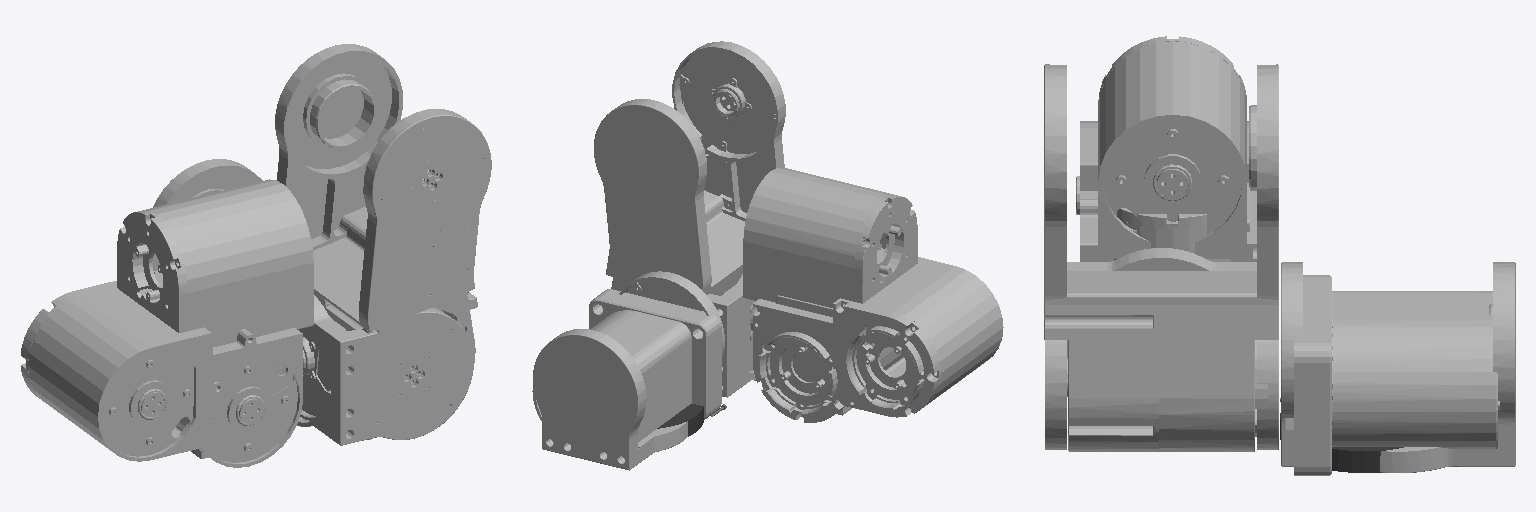
The robot description file, URDF, robot "Assy-Arm-R11":
<?xml version="1.0" encoding="utf-8"?>
<!-- This URDF was automatically created by SolidWorks to URDF Exporter! Originally created by [author] ([email redacted]) 
     Commit Version: 1.6.0-4-g7f85cfe  Build Version: 1.6.7995.38578
     For more information, please see http://wiki.ros.org/sw_urdf_exporter -->
<robot
  name="Assy-Arm-R11">
  <link
    name="Baselink">
    <inertial>
      <origin
        xyz="5.14210495693695E-05 -0.00347977495272745 0.0572202568665285"
        rpy="0 0 0" />
      <mass
        value="0.920517665514425" />
      <inertia
        ixx="0.000889300794089527"
        ixy="2.30285761453492E-06"
        ixz="-1.69735343853035E-06"
        iyy="0.000803479245132785"
        iyz="-7.28407372781912E-06"
        izz="0.000817874290836391" />
    </inertial>
    <visual>
      <origin
        xyz="0 0 0"
        rpy="0 0 0" />
      <geometry>
        <mesh
          filename="package://Assy-Arm-R11/meshes/Baselink.STL" />
      </geometry>
      <material
        name="">
        <color
          rgba="0.752941176470588 0.752941176470588 0.752941176470588 1" />
      </material>
    </visual>
    <collision>
      <origin
        xyz="0 0 0"
        rpy="0 0 0" />
      <geometry>
        <mesh
          filename="package://Assy-Arm-R11/meshes/Baselink.STL" />
      </geometry>
    </collision>
  </link>
  <link
    name="Link_1">
    <inertial>
      <origin
        xyz="-1.02244608145538E-06 0.00112007948225424 0.0204998303580777"
        rpy="0 0 0" />
      <mass
        value="0.382058624778774" />
      <inertia
        ixx="0.000349750409666344"
        ixy="4.38804662773357E-08"
        ixz="-1.56646259094666E-08"
        iyy="0.000409993912478932"
        iyz="8.44359837437841E-07"
        izz="0.000385437259055182" />
    </inertial>
    <visual>
      <origin
        xyz="0 0 0"
        rpy="0 0 0" />
      <geometry>
        <mesh
          filename="package://Assy-Arm-R11/meshes/Link_1.STL" />
      </geometry>
      <material
        name="">
        <color
          rgba="0.752941176470588 0.752941176470588 0.752941176470588 1" />
      </material>
    </visual>
    <collision>
      <origin
        xyz="0 0 0"
        rpy="0 0 0" />
      <geometry>
        <mesh
          filename="package://Assy-Arm-R11/meshes/Link_1.STL" />
      </geometry>
    </collision>
  </link>
  <joint
    name="joint1"
    type="revolute">
    <origin
      xyz="0 0 0.11808"
      rpy="0 0 0" />
    <parent
      link="Baselink" />
    <child
      link="Link_1" />
    <axis
      xyz="0 0 1" />
    <limit
      lower="-3.054"
      upper="3.054"
      effort="18"
      velocity="3.5" />
  </joint>
  <link
    name="Link2">
    <inertial>
      <origin
        xyz="-0.000849253066788795 0.029054020211393 0.00107702601951669"
        rpy="0 0 0" />
      <mass
        value="1.26101938298306" />
      <inertia
        ixx="0.00253360786519654"
        ixy="-1.05945646914692E-05"
        ixz="3.52239487571225E-06"
        iyy="0.000863859605064866"
        iyz="1.99537986334647E-05"
        izz="0.00287589484525876" />
    </inertial>
    <visual>
      <origin
        xyz="0 0 0"
        rpy="0 0 0" />
      <geometry>
        <mesh
          filename="package://Assy-Arm-R11/meshes/Link2.STL" />
      </geometry>
      <material
        name="">
        <color
          rgba="0.752941176470588 0.752941176470588 0.752941176470588 1" />
      </material>
    </visual>
    <collision>
      <origin
        xyz="0 0 0"
        rpy="0 0 0" />
      <geometry>
        <mesh
          filename="package://Assy-Arm-R11/meshes/Link2.STL" />
      </geometry>
    </collision>
  </link>
  <joint
    name="Joint2"
    type="revolute">
    <origin
      xyz="0 0 0.0478"
      rpy="1.5708 0 0" />
    <parent
      link="Link_1" />
    <child
      link="Link2" />
    <axis
      xyz="0 0 1" />
    <limit
      lower="-1.4835"
      upper="1.4835"
      effort="18"
      velocity="3.5" />
  </joint>
  <link
    name="Link3">
    <inertial>
      <origin
        xyz="0.044175644745497 -0.00294149191642336 0.00119593238217333"
        rpy="0 0 0" />
      <mass
        value="1.79154044981363" />
      <inertia
        ixx="0.00131739250408468"
        ixy="0.000126307089929083"
        ixz="0.000110559022227893"
        iyy="0.00215735533415162"
        iyz="-2.63185425786835E-05"
        izz="0.00218412349514914" />
    </inertial>
    <visual>
      <origin
        xyz="0 0 0"
        rpy="0 0 0" />
      <geometry>
        <mesh
          filename="package://Assy-Arm-R11/meshes/Link3.STL" />
      </geometry>
      <material
        name="">
        <color
          rgba="0.752941176470588 0.752941176470588 0.752941176470588 1" />
      </material>
    </visual>
    <collision>
      <origin
        xyz="0 0 0"
        rpy="0 0 0" />
      <geometry>
        <mesh
          filename="package://Assy-Arm-R11/meshes/Link3.STL" />
      </geometry>
    </collision>
  </link>
  <joint
    name="joint3"
    type="revolute">
    <origin
      xyz="0 0.13668 0"
      rpy="0 0 1.5708" />
    <parent
      link="Link2" />
    <child
      link="Link3" />
    <axis
      xyz="0 0 -1" />
    <limit
      lower="-1.2217"
      upper="2.0944"
      effort="18"
      velocity="3.5" />
  </joint>
  <link
    name="Link4">
    <inertial>
      <origin
        xyz="1.03025768988241E-06 -0.00112007725301295 0.0204998303580779"
        rpy="0 0 0" />
      <mass
        value="0.382058624778774" />
      <inertia
        ixx="0.000349750409666343"
        ixy="4.38804662762965E-08"
        ixz="1.56674497381565E-08"
        iyy="0.000409993912478931"
        iyz="-8.44351800970282E-07"
        izz="0.00038543725905518" />
    </inertial>
    <visual>
      <origin
        xyz="0 0 0"
        rpy="0 0 0" />
      <geometry>
        <mesh
          filename="package://Assy-Arm-R11/meshes/Link4.STL" />
      </geometry>
      <material
        name="">
        <color
          rgba="0.752941176470588 0.752941176470588 0.752941176470588 1" />
      </material>
    </visual>
    <collision>
      <origin
        xyz="0 0 0"
        rpy="0 0 0" />
      <geometry>
        <mesh
          filename="package://Assy-Arm-R11/meshes/Link4.STL" />
      </geometry>
    </collision>
  </link>
  <joint
    name="Joint4"
    type="revolute">
    <origin
      xyz="0.0883 -0.0611 0"
      rpy="1.5708 0 0" />
    <parent
      link="Link3" />
    <child
      link="Link4" />
    <axis
      xyz="0 0 1" />
    <limit
      lower="-3.0543"
      upper="3.0543"
      effort="18"
      velocity="3.5" />
  </joint>
  <link
    name="Link5">
    <inertial>
      <origin
        xyz="-0.00294149202499677 -0.0441756448069865 0.00119593259304638"
        rpy="0 0 0" />
      <mass
        value="1.79154047512842" />
      <inertia
        ixx="0.00215735531140874"
        ixy="-0.00012630709641912"
        ixz="-2.63185326338472E-05"
        iyy="0.00131739253165246"
        iyz="-0.000110559008685242"
        izz="0.002184123504059" />
    </inertial>
    <visual>
      <origin
        xyz="0 0 0"
        rpy="0 0 0" />
      <geometry>
        <mesh
          filename="package://Assy-Arm-R11/meshes/Link5.STL" />
      </geometry>
      <material
        name="">
        <color
          rgba="0.752941176470588 0.752941176470588 0.752941176470588 1" />
      </material>
    </visual>
    <collision>
      <origin
        xyz="0 0 0"
        rpy="0 0 0" />
      <geometry>
        <mesh
          filename="package://Assy-Arm-R11/meshes/Link5.STL" />
      </geometry>
    </collision>
  </link>
  <joint
    name="Joint5"
    type="revolute">
    <origin
      xyz="0 0 0.0478"
      rpy="-1.5708 0 0" />
    <parent
      link="Link4" />
    <child
      link="Link5" />
    <axis
      xyz="0 0 1" />
    <limit
      lower="-1.4835"
      upper="1.4835"
      effort="18"
      velocity="3.15" />
  </joint>
  <link
    name="Link6">
    <inertial>
      <origin
        xyz="1.94289029309402E-16 4.47565548034622E-15 0.0215973177991842"
        rpy="0 0 0" />
      <mass
        value="0.0944639400304874" />
      <inertia
        ixx="1.4129956503066E-05"
        ixy="-4.39796943349642E-09"
        ixz="2.53746953920545E-20"
        iyy="1.42058821594018E-05"
        iyz="-3.42677602443536E-20"
        izz="1.00774973694868E-05" />
    </inertial>
    <visual>
      <origin
        xyz="0 0 0"
        rpy="0 0 0" />
      <geometry>
        <mesh
          filename="package://Assy-Arm-R11/meshes/Link6.STL" />
      </geometry>
      <material
        name="">
        <color
          rgba="0.298039215686275 0.298039215686275 0.298039215686275 1" />
      </material>
    </visual>
    <collision>
      <origin
        xyz="0 0 0"
        rpy="0 0 0" />
      <geometry>
        <mesh
          filename="package://Assy-Arm-R11/meshes/Link6.STL" />
      </geometry>
    </collision>
  </link>
  <joint
    name="joint6"
    type="revolute">
    <origin
      xyz="-0.0611 -0.0883 0"
      rpy="-1.5708 0 -1.5708" />
    <parent
      link="Link5" />
    <child
      link="Link6" />
    <axis
      xyz="0 0 -1" />
    <limit
      lower="0"
      upper="6.28"
      effort="18"
      velocity="3.15" />
  </joint>
  <link
    name="End effector">
    <inertial>
      <origin
        xyz="0.000784949544316849 0.000869850697527505 0.0251173775930977"
        rpy="0 0 0" />
      <mass
        value="0.0835312710429387" />
      <inertia
        ixx="5.41519190676001E-05"
        ixy="1.32159600407647E-06"
        ixz="1.84896531517847E-08"
        iyy="5.33140065206736E-05"
        iyz="6.74501752073339E-08"
        izz="0.000105563408425494" />
    </inertial>
    <visual>
      <origin
        xyz="0 0 0"
        rpy="0 0 0" />
      <geometry>
        <mesh
          filename="package://Assy-Arm-R11/meshes/End effector.STL" />
      </geometry>
      <material
        name="">
        <color
          rgba="0.498039215686275 0.498039215686275 0.498039215686275 1" />
      </material>
    </visual>
    <collision>
      <origin
        xyz="0 0 0"
        rpy="0 0 0" />
      <geometry>
        <mesh
          filename="package://Assy-Arm-R11/meshes/End effector.STL" />
      </geometry>
    </collision>
  </link>
  <joint
    name="Needle tip"
    type="fixed">
    <origin
      xyz="0 0 -0.02715"
      rpy="0 0 0" />
    <parent
      link="Link6" />
    <child
      link="End effector" />
    <axis
      xyz="0 0 0" />
  </joint>
</robot>

--- What the picture shows (computed from the rendered views, not written in the file) ---
3 views of the same robot in one strip: view 1: azimuth 30°, elevation 25°; view 2: azimuth 150°, elevation 25°; view 3: azimuth 270°, elevation 25° (orthographic).
Model Assy-Arm-R11 with 8 links and 7 joints (6 revolute, 1 fixed), rooted at Baselink, posed every joint at zero.
Visible links, largest first — view 1: Link2, Link3, Link5, Link4, Link_1; view 2: Link2, Link3, Link5, Link_1, Baselink, Link4, Link6; view 3: Link2, Baselink, Link3, Link_1, Link4, Link5, Link6.
Boxes of the visible links, box(x1,y1,x2,y2) form: Link2: box(275, 44, 491, 376); Link3: box(117, 179, 313, 467); Link5: box(21, 270, 285, 461); Link4: box(297, 295, 473, 445); Link_1: box(153, 159, 262, 207); Link2: box(594, 41, 785, 295); Link3: box(743, 167, 917, 422); Link5: box(761, 248, 1003, 417); Link_1: box(533, 271, 724, 470); Baselink: box(532, 289, 721, 441); Link4: box(622, 274, 756, 397); Link6: box(657, 404, 703, 436); Link2: box(1044, 64, 1278, 451); Baselink: box(1294, 275, 1499, 475); Link3: box(1080, 36, 1256, 261); Link_1: box(1281, 262, 1515, 472); Link4: box(1045, 248, 1278, 449); Link5: box(1076, 121, 1256, 261); Link6: box(1280, 413, 1403, 472).
Bounding box of the posed robot: 282 × 253 × 227 m (x, y, z).
Meshes: 8 distinct files referenced, 8 mesh visuals loaded (8 binary STL).